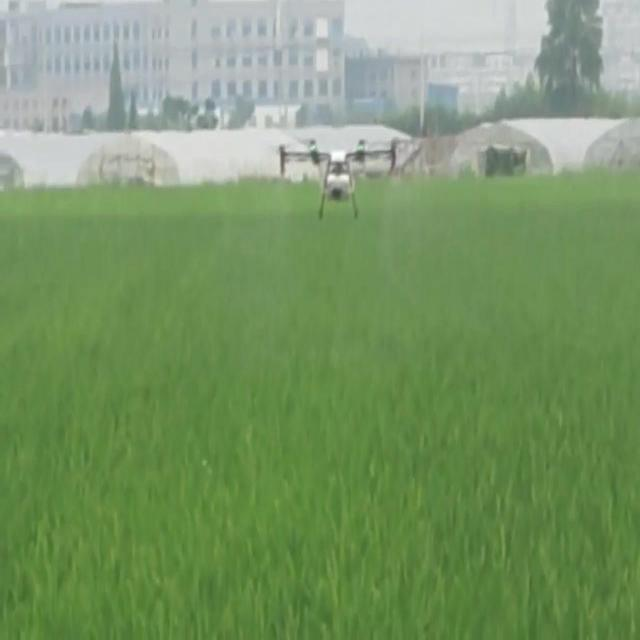UAV: (276, 136, 422, 220)
